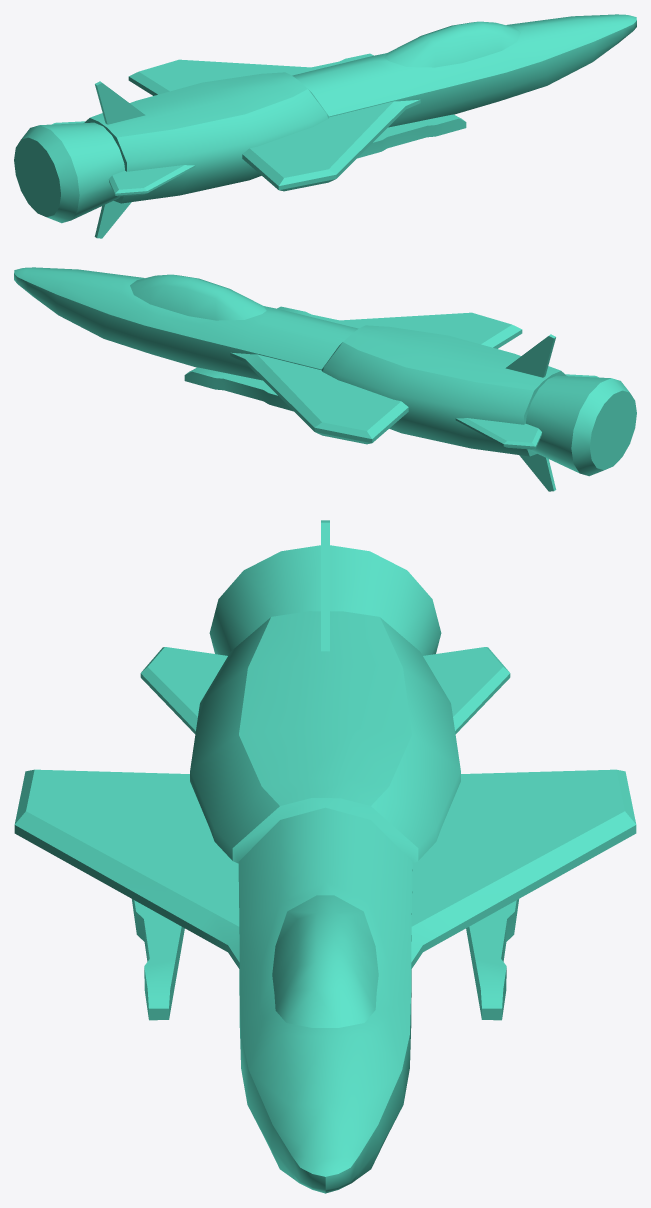
3 views of the same model, one above another, from view 1: azimuth 30°, elevation 25°; view 2: azimuth 150°, elevation 25°; view 3: azimuth 270°, elevation 25° (orthographic). The views are drawn at different scales.
Parts seen in each view (by area): view 1: StarSparrow12; view 2: StarSparrow12; view 3: StarSparrow12.
Part boxes in pixels (x1,y1,x2,y2): StarSparrow12: [14, 14, 636, 238]; StarSparrow12: [14, 267, 636, 491]; StarSparrow12: [14, 520, 636, 1193].
Bounding box in the file's own units: 545 × 135 × 245.
